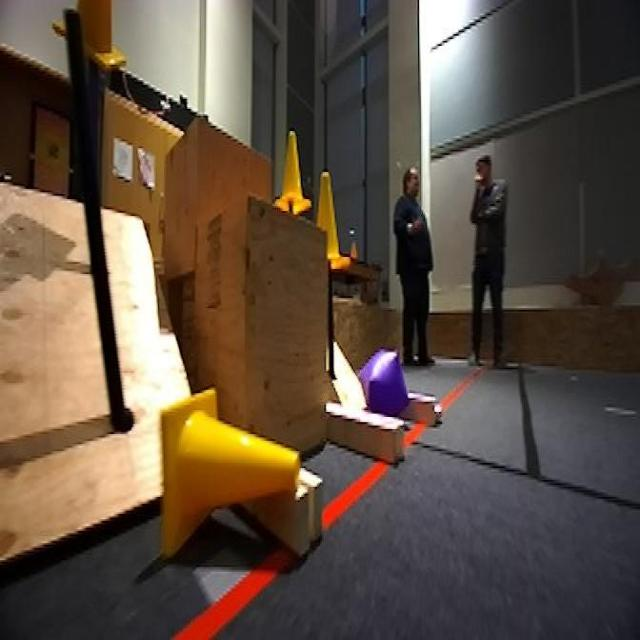frc_cone: (156, 382, 304, 564), (52, 0, 127, 68), (310, 170, 354, 278), (274, 131, 310, 223)
frc_cube: (360, 346, 414, 420)
